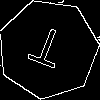T: (23, 24, 68, 77)
